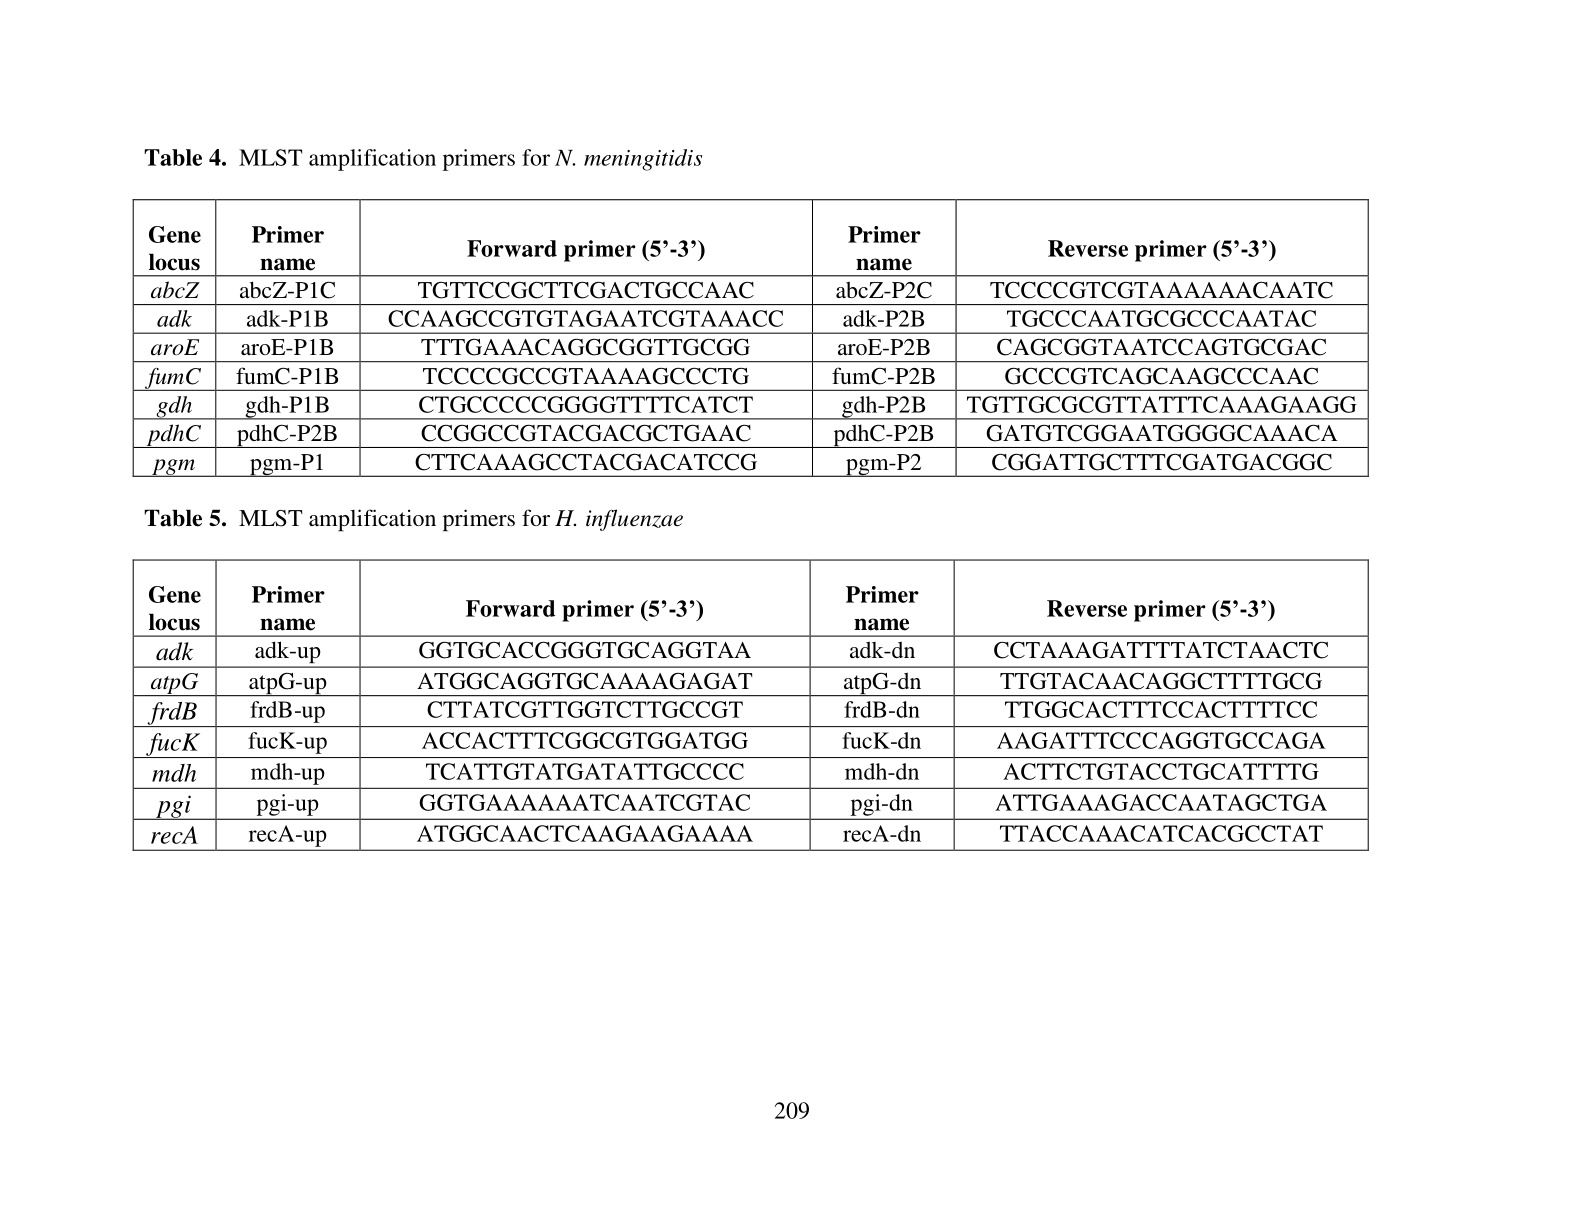full_lined: (132, 559, 1369, 852), (132, 199, 1369, 477)
